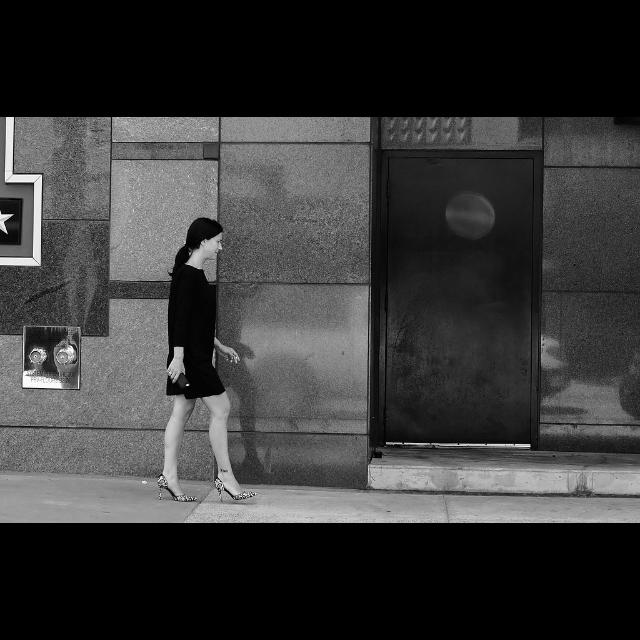dress: (164, 263, 226, 401)
shoes: (154, 470, 196, 504), (212, 476, 258, 504)
